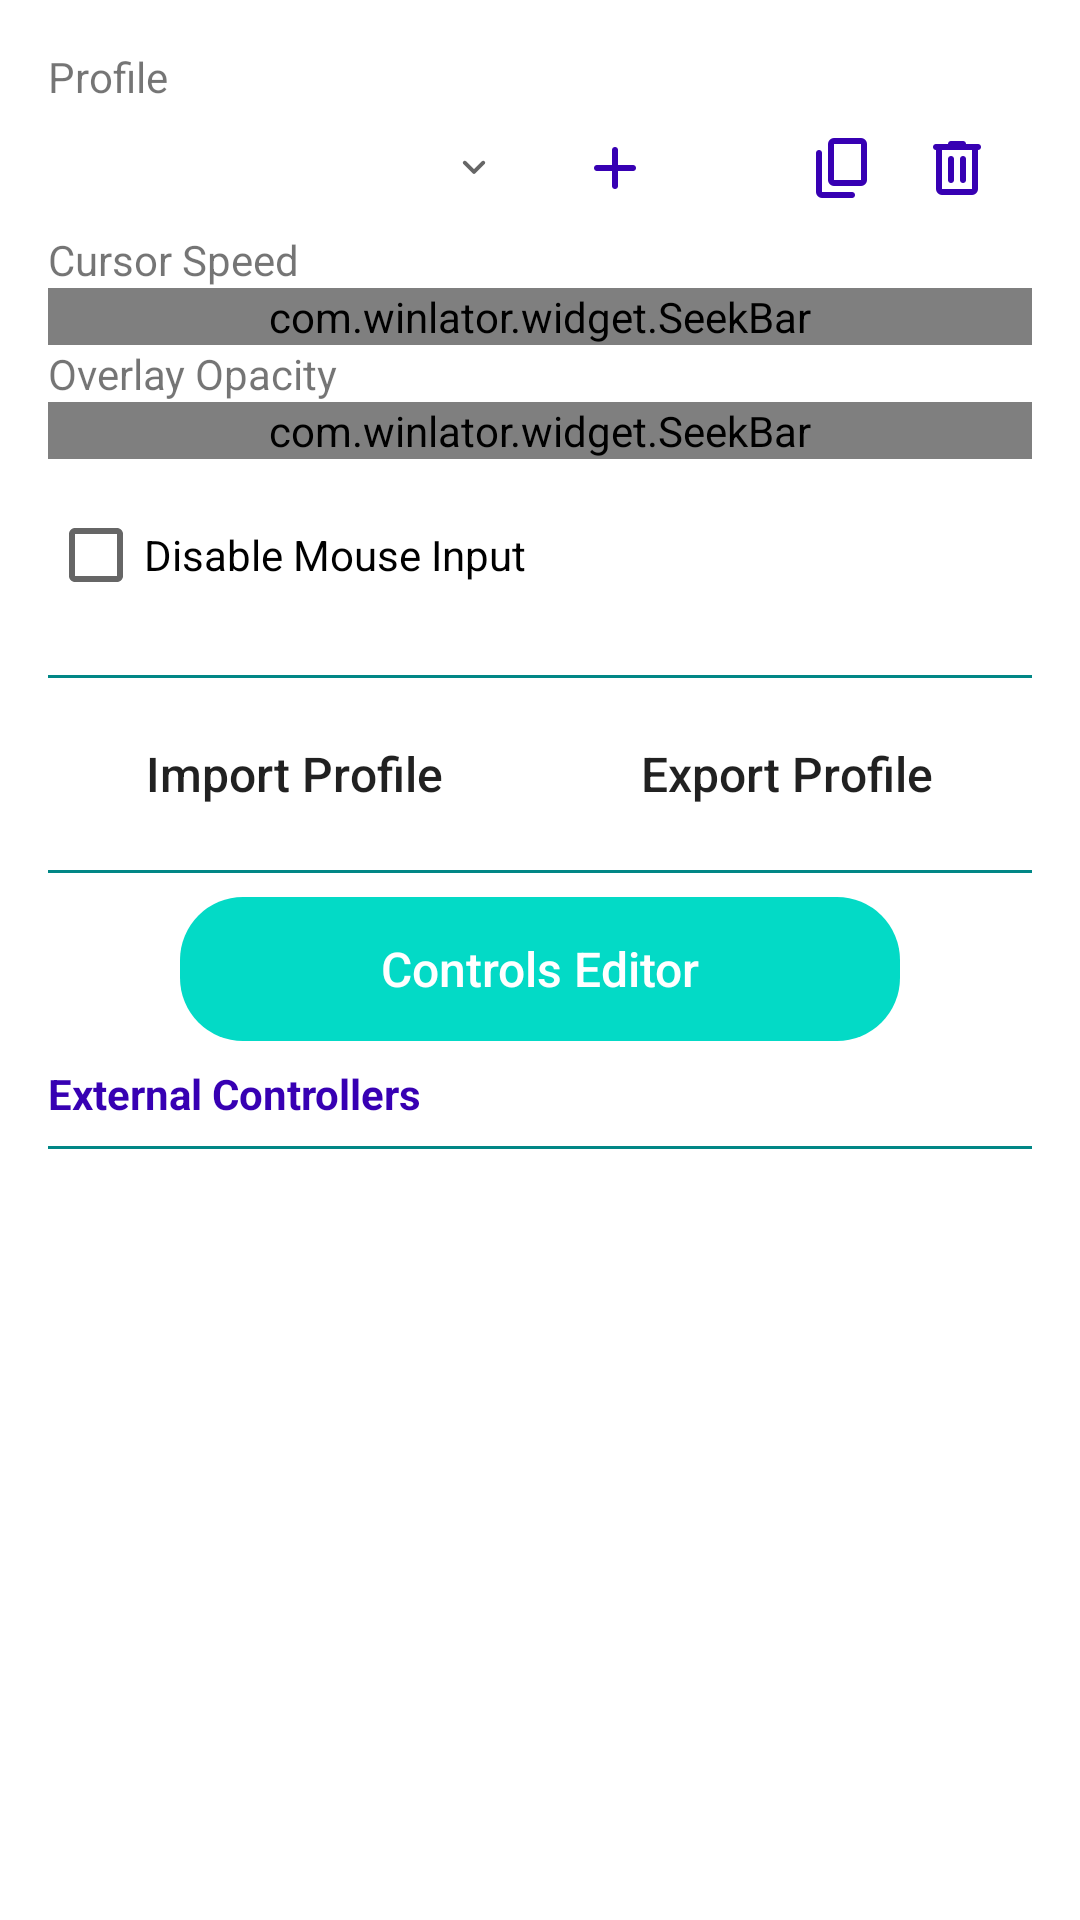

Screen size 1080*1920. Icon name, then its box in pixels as (x1, y1, x2, y2):
add: (594, 147, 636, 189)
duplicate: (816, 138, 867, 198)
remove: (933, 141, 981, 195)
